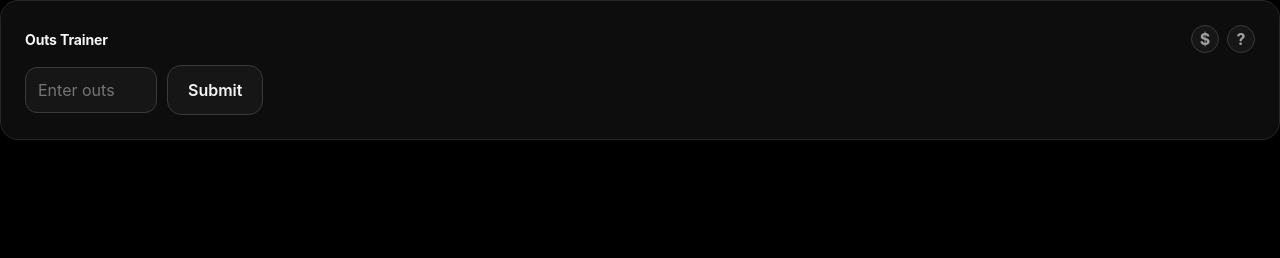
it: OutsPanel › grades a guess and reports it to the parent
Type "8" into the field with placeholder "Enter outs" at (91, 90), box [25,67,157,113]
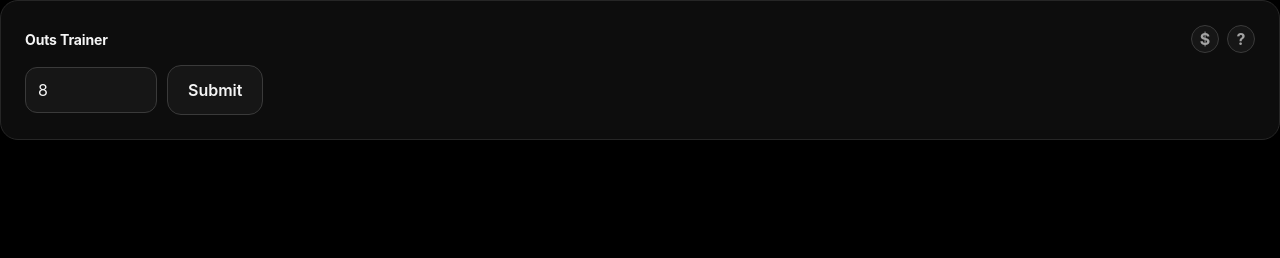
Click the button "Submit" at (215, 90), box [167,65,263,115]
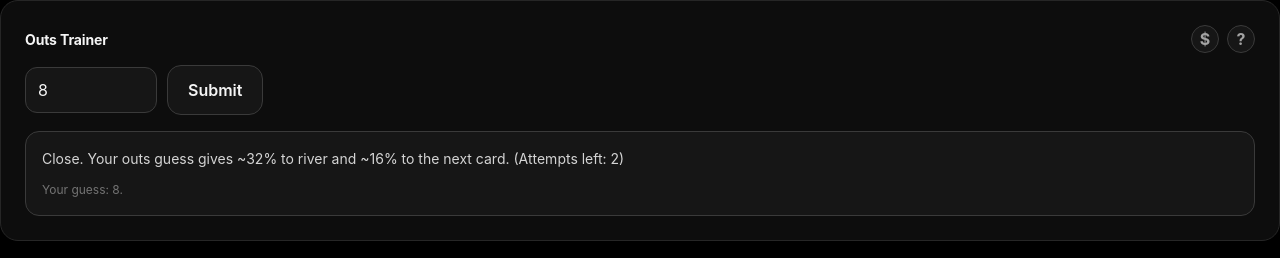
Expected: the text "Close. Your outs guess gives ~32% to river" is shown, [42,150,510,167]
